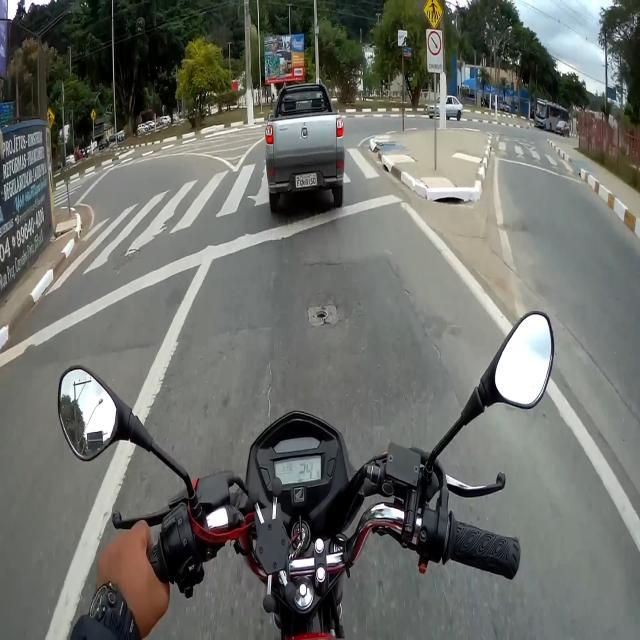Placa_mercosul_carro: (295, 173, 317, 188)
